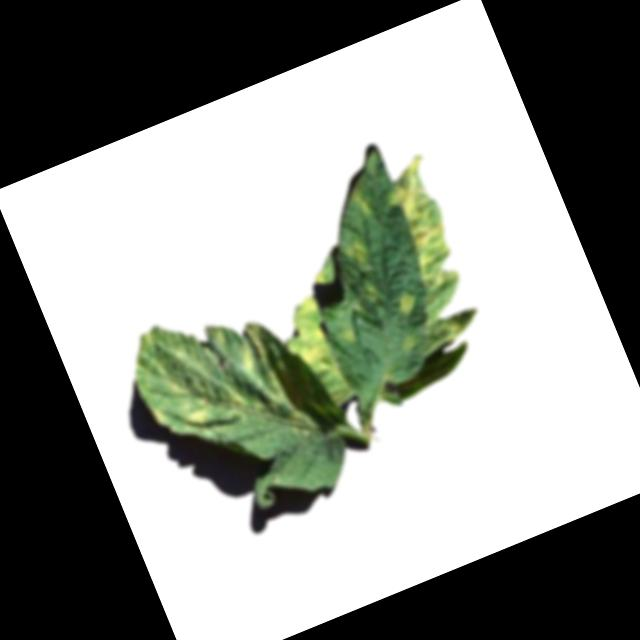Leaf_Mold: (378, 151, 478, 314), (270, 292, 342, 382), (335, 225, 378, 278), (173, 391, 215, 434), (230, 339, 261, 377), (389, 287, 420, 318), (147, 397, 172, 428)
